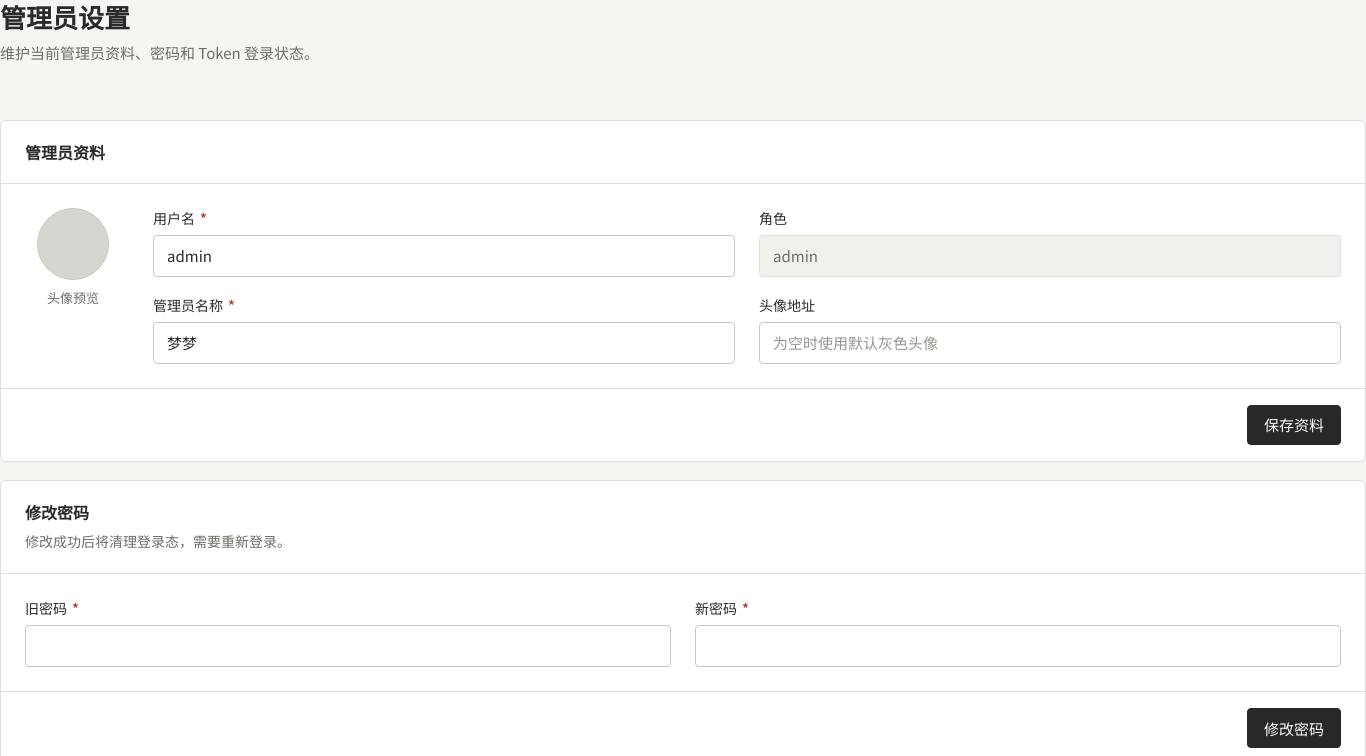
Test case: 管理员设置页 › 后端头像为空时应显示默认灰色头像并允许随资料一起保存头像地址
Type "https://example.com/avatar.png" into the field labelled "头像地址". click: [1050, 343]
box: [760,323,1340,363]
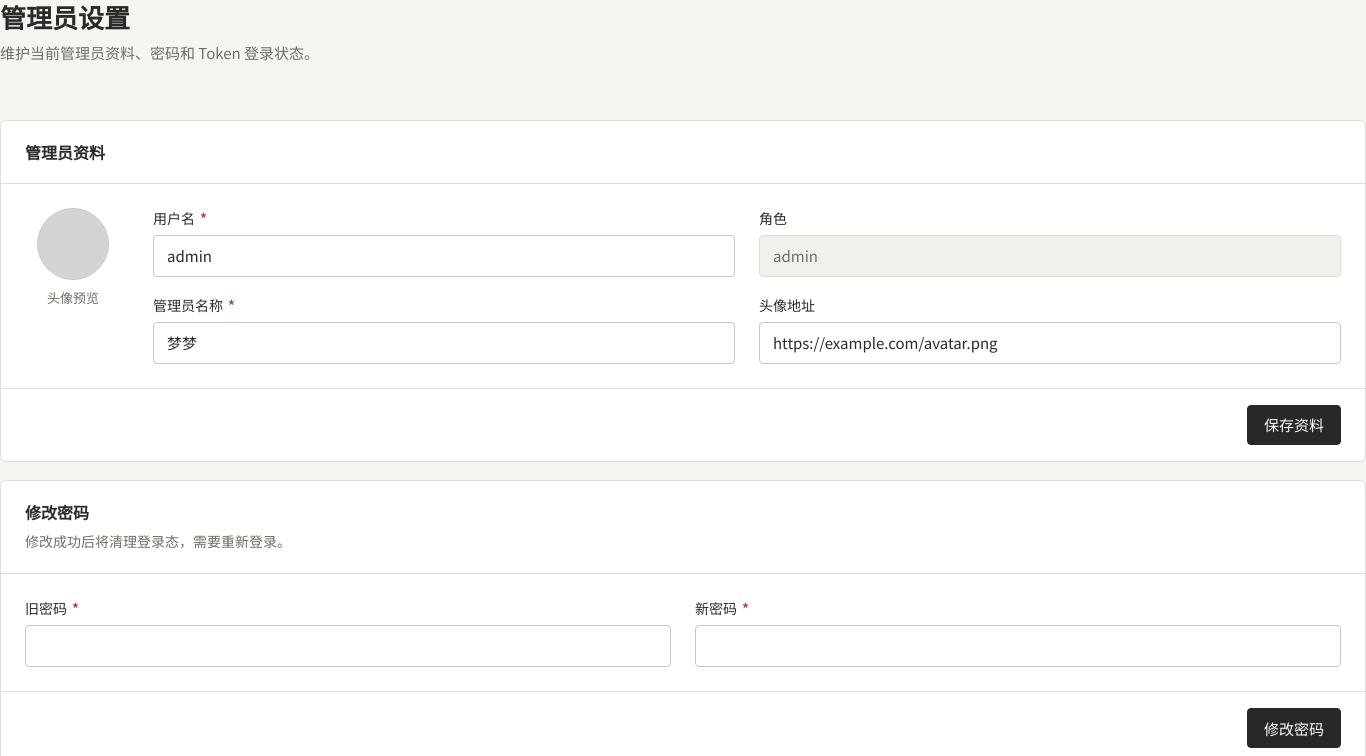
Click the button "保存资料". click: [1294, 425]
box: [1247,405,1341,445]
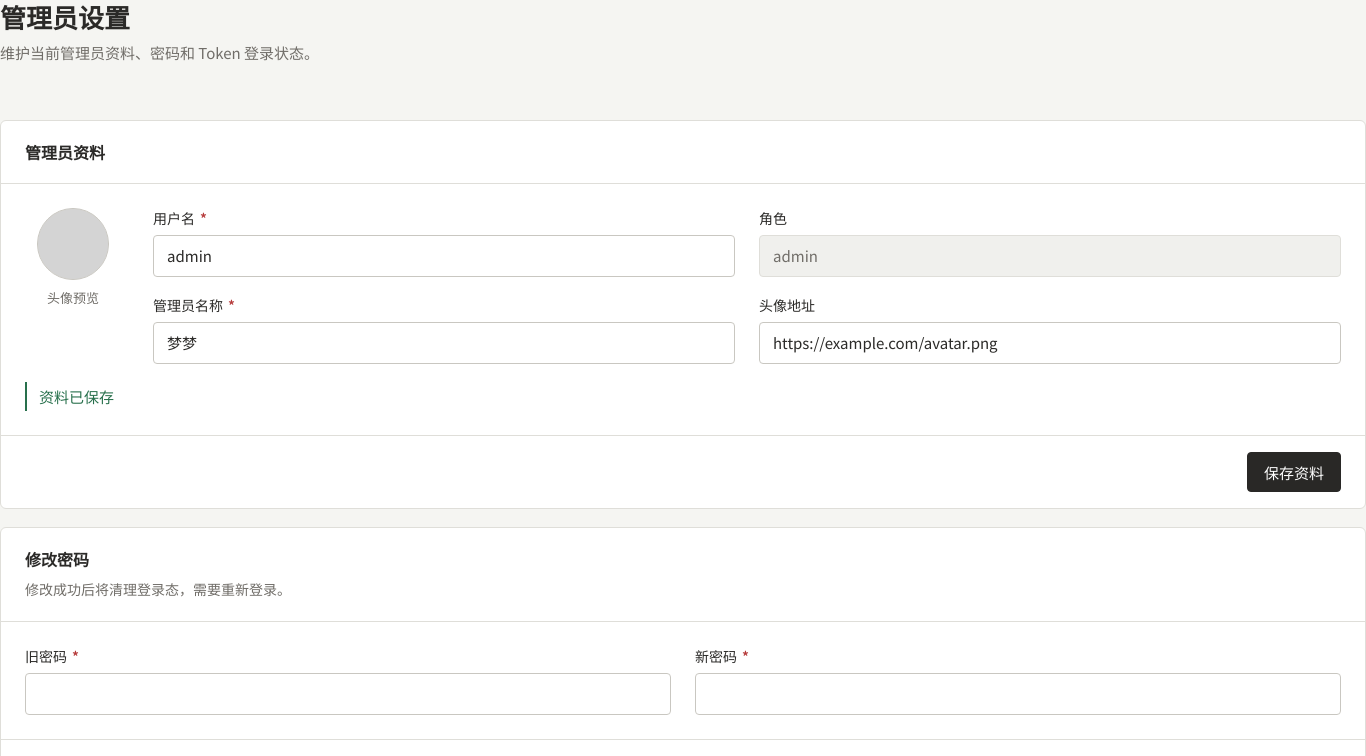
expect the text "资料已保存" is shown: met, box [39,386,114,407]
